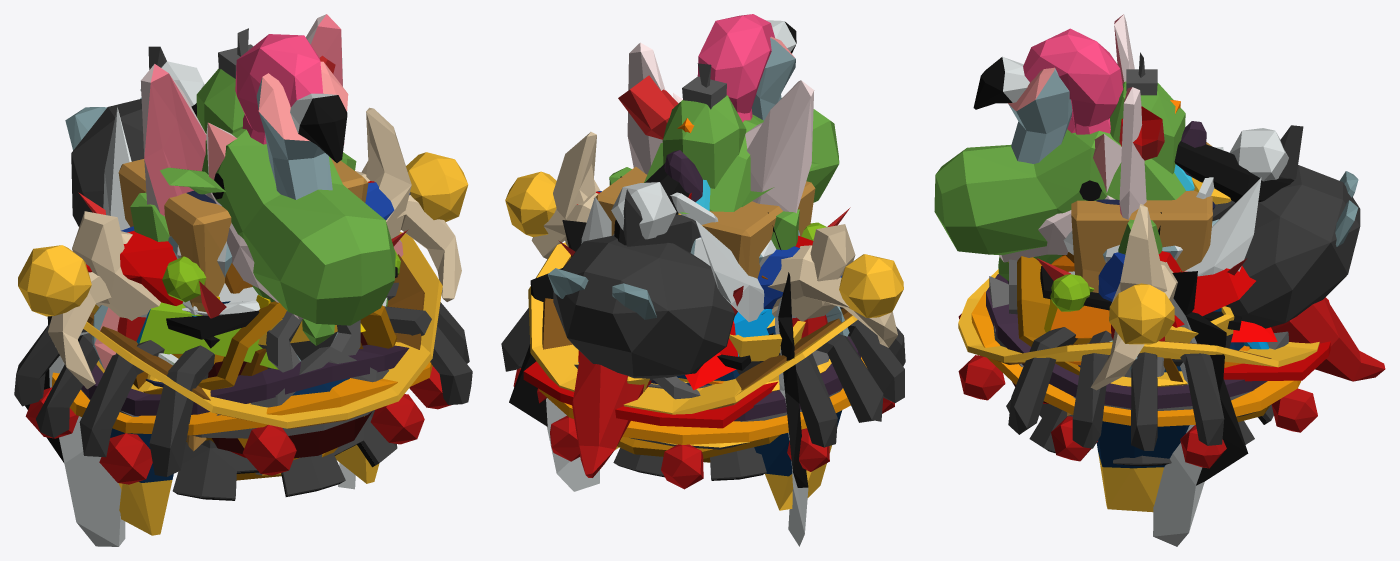
Rendered from 90LowpolyHatsVer2.fbx.
3 renders of one model, left to right at view 1: azimuth 30°, elevation 25°; view 2: azimuth 150°, elevation 25°; view 3: azimuth 270°, elevation 25°, orthographic. The views are drawn at different scales.
Parts seen in each view (by area): view 1: m_Lp_DinosaurHat01, m_Lp_SpiderHat01, m_Lp_SombreroHat01, m_Lp_JesterHat01, m_Lp_VikingHelmet01, m_Lp_Bunnyears01, m_Lp_FlamingoHat01, m_Lp_BeachHat01, m_Lp_ExecutionerHat01, m_Lp_ElephantHat01, m_Lp_Paperbag01, m_Lp_BigHornedHelmet01 (+23 smaller); view 2: m_Lp_SpiderHat01, m_Lp_Bunnyears01, m_Lp_SombreroHat01, m_Lp_FeatherHat01, m_Lp_JesterHat01, m_Lp_BeachHat01, m_Lp_CactusHat01, m_Lp_FlamingoHat01, m_Lp_VikingHelmet01, m_Lp_KnightHelmet02, m_Lp_Paperbag01, m_Lp_BigHornedHelmet01 (+22 smaller); view 3: m_Lp_SpiderHat01, m_Lp_DinosaurHat01, m_Lp_SombreroHat01, m_Lp_FlamingoHat01, m_Lp_FeatherHat01, m_Lp_Paperbag01, m_Lp_BeachHat01, m_Lp_PharaohHat01, m_Lp_JesterHat01, m_Lp_WitchHat01, m_Lp_ElephantHat01, m_Lp_KnightHelmet02 (+20 smaller).
Part boxes in pixels (left/top/right/bottom): m_Lp_DinosaurHat01: left=202, top=128, right=395, bottom=345; m_Lp_SpiderHat01: left=14, top=99, right=472, bottom=476; m_Lp_SombreroHat01: left=25, top=362, right=451, bottom=484; m_Lp_JesterHat01: left=18, top=152, right=468, bottom=316; m_Lp_VikingHelmet01: left=72, top=107, right=411, bottom=320; m_Lp_Bunnyears01: left=141, top=14, right=344, bottom=216; m_Lp_FlamingoHat01: left=235, top=34, right=347, bottom=162; m_Lp_BeachHat01: left=83, top=232, right=442, bottom=428; m_Lp_ExecutionerHat01: left=148, top=46, right=397, bottom=500; m_Lp_ElephantHat01: left=92, top=61, right=403, bottom=370; m_Lp_Paperbag01: left=118, top=159, right=368, bottom=451; m_Lp_BigHornedHelmet01: left=48, top=171, right=461, bottom=389; m_Lp_SpiderHat01: left=501, top=235, right=905, bottom=447; m_Lp_Bunnyears01: left=627, top=42, right=814, bottom=213; m_Lp_SombreroHat01: left=513, top=357, right=894, bottom=489; m_Lp_FeatherHat01: left=509, top=176, right=808, bottom=546; m_Lp_JesterHat01: left=505, top=171, right=903, bottom=317; m_Lp_BeachHat01: left=528, top=242, right=857, bottom=414; m_Lp_CactusHat01: left=609, top=95, right=799, bottom=249; m_Lp_FlamingoHat01: left=697, top=14, right=796, bottom=113; m_Lp_VikingHelmet01: left=553, top=132, right=855, bottom=321; m_Lp_KnightHelmet02: left=572, top=352, right=651, bottom=477; m_Lp_Paperbag01: left=594, top=166, right=815, bottom=278; m_Lp_BigHornedHelmet01: left=531, top=193, right=897, bottom=347; m_Lp_SpiderHat01: left=1008, top=165, right=1360, bottom=450; m_Lp_DinosaurHat01: left=934, top=100, right=1185, bottom=280; m_Lp_SombreroHat01: left=958, top=291, right=1317, bottom=468; m_Lp_FlamingoHat01: left=973, top=28, right=1123, bottom=133; m_Lp_FeatherHat01: left=1153, top=212, right=1248, bottom=546; m_Lp_Paperbag01: left=1067, top=142, right=1212, bottom=415; m_Lp_BeachHat01: left=958, top=269, right=1319, bottom=367; m_Lp_PharaohHat01: left=1096, top=308, right=1244, bottom=512; m_Lp_JesterHat01: left=1098, top=251, right=1182, bottom=344; m_Lp_WitchHat01: left=986, top=121, right=1267, bottom=408; m_Lp_ElephantHat01: left=1008, top=67, right=1137, bottom=372; m_Lp_KnightHelmet02: left=1271, top=297, right=1385, bottom=381.
Size of the model in its own units: 82.43 by 93.22 by 83.21.
